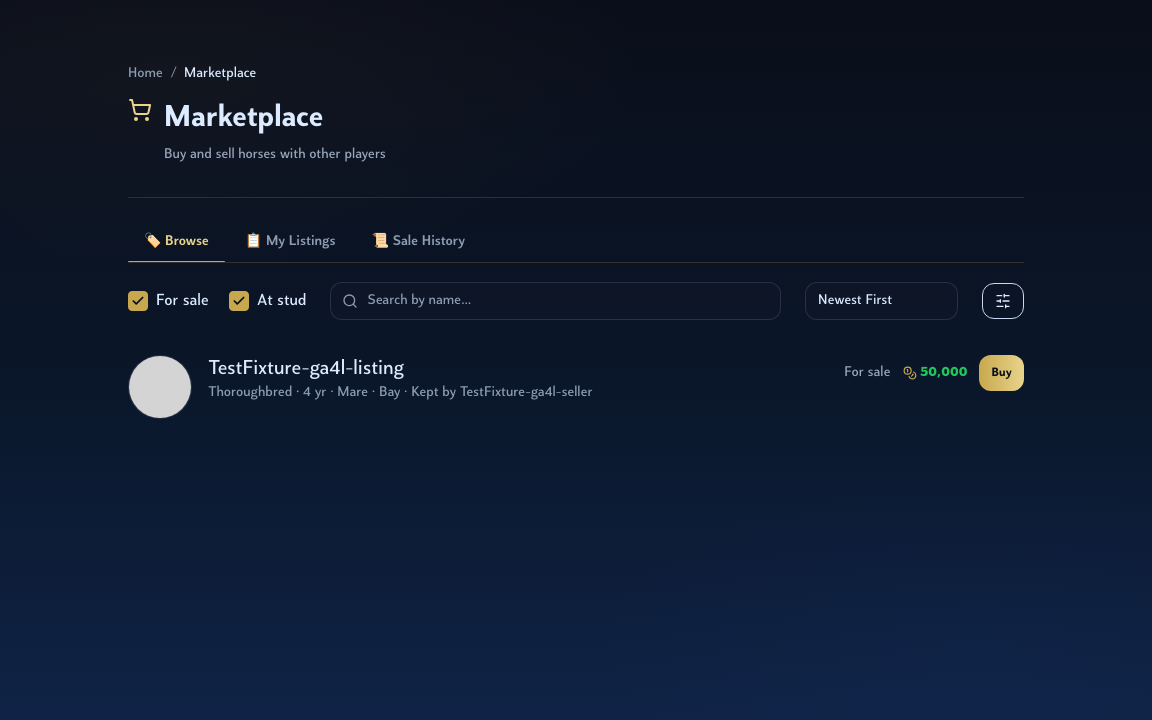
Test: HorseMarketplacePage — real balance wiring (Equoria-ga4l) › enables Buy when real balance covers listing price
The width and height of the screenshot is (1152, 720).
Expected: the link "TestFixture-ga4l-listing" is shown, top-left (208, 359), bottom-right (404, 379)
Click the button with aria-label "buy testfixture-ga4l-listing". click: (1002, 373)
box: top-left (979, 355), bottom-right (1024, 391)
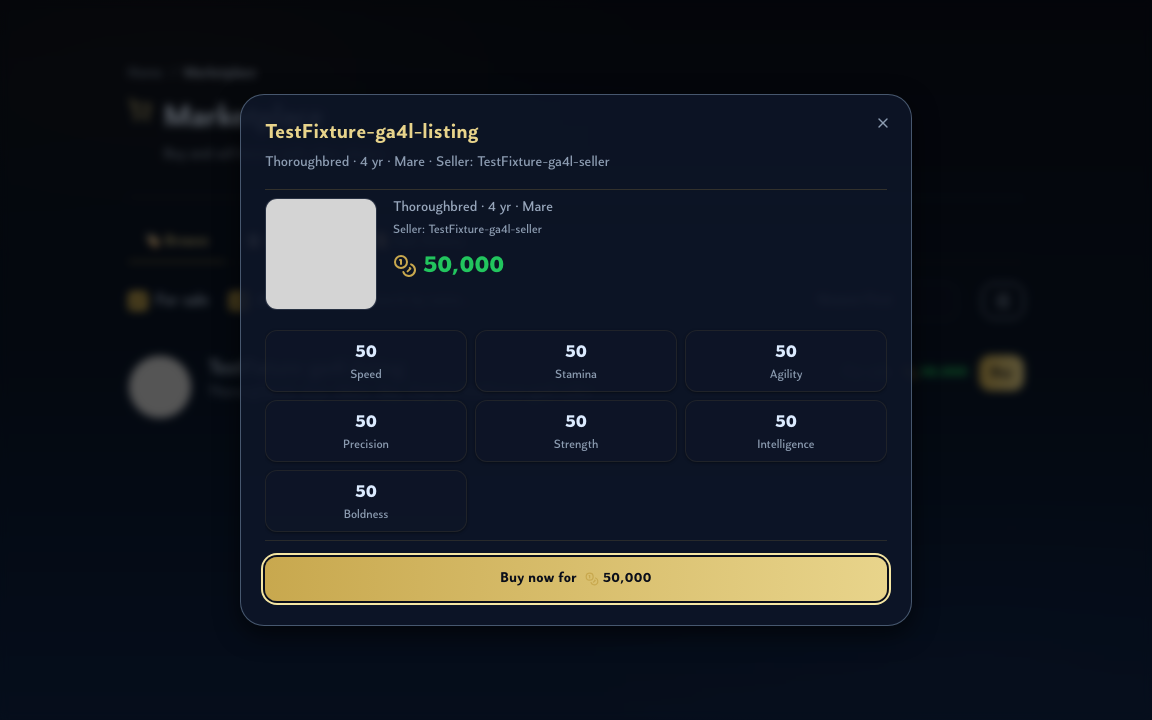
Now the button "Buy now for 50,000" is enabled, box top-left (265, 557), bottom-right (887, 601)
